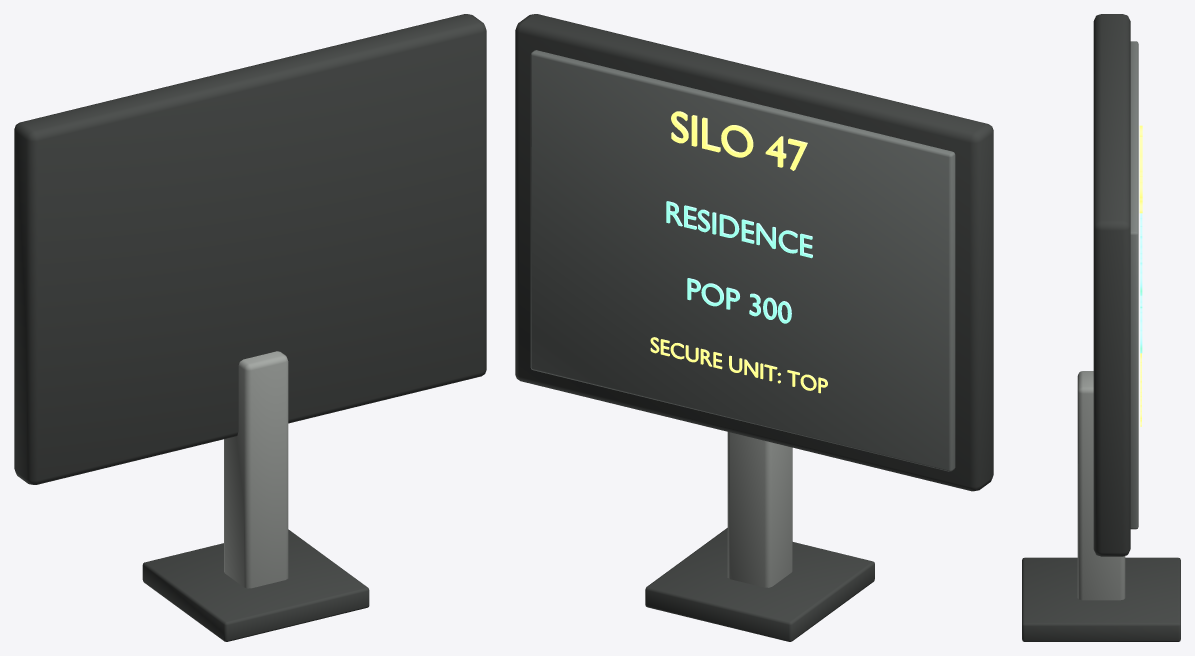
Rendered from hab_directory_v4.glb.
The picture shows the model from 3 angles, left to right: view 1: azimuth 30°, elevation 25°; view 2: azimuth 150°, elevation 25°; view 3: azimuth 270°, elevation 25°; orthographic projection. The views are drawn at different scales.
Parts seen in each view (by area): view 1: HabDirectory; view 2: HabDirectory; view 3: HabDirectory.
Boxes of the visible parts, x1,y1,x2,y2 form: HabDirectory: [14, 14, 486, 641]; HabDirectory: [515, 14, 993, 641]; HabDirectory: [1022, 14, 1180, 641].
Bounding box in the file's own units: 1.9 × 2.05 × 0.6.
